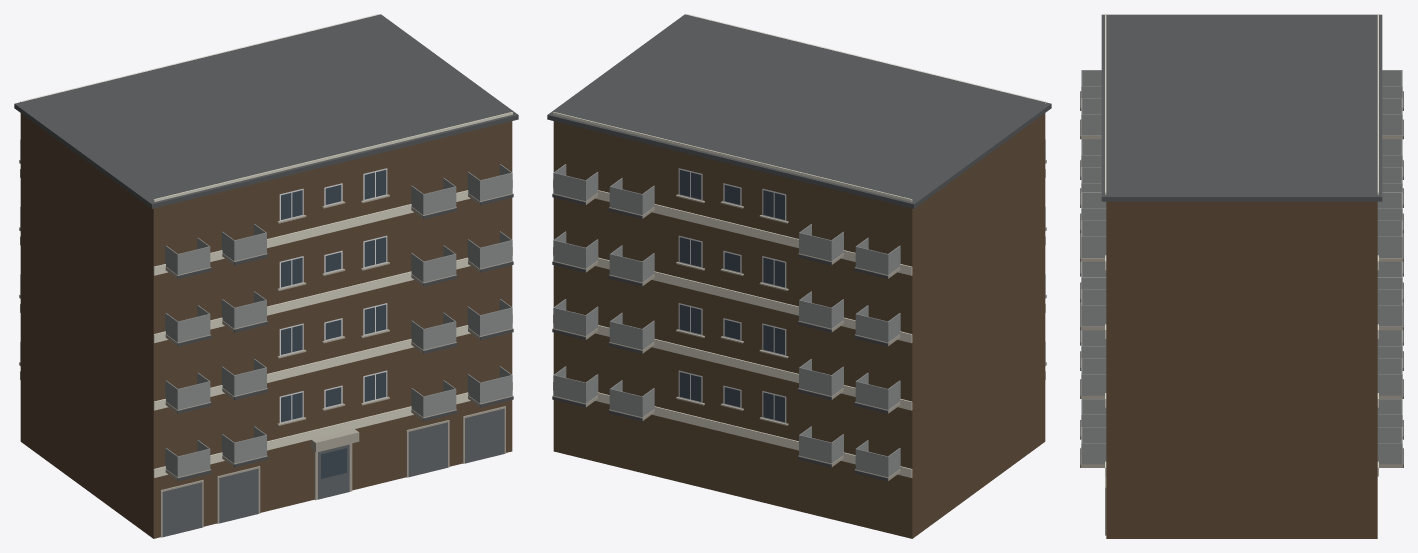
The model's file is nw-garage-balcony-band-brown__brown-brick__5__flat__long__solid.glb.
3 views of the same model, side by side, from view 1: azimuth 30°, elevation 25°; view 2: azimuth 150°, elevation 25°; view 3: azimuth 270°, elevation 25° (orthographic).
Parts seen in each view (by area): view 1: nw-garage-balcony-band-brown__brown-brick__5__flat__long__so; view 2: nw-garage-balcony-band-brown__brown-brick__5__flat__long__so; view 3: nw-garage-balcony-band-brown__brown-brick__5__flat__long__so.
Boxes of the visible parts, bbox=[...] form: nw-garage-balcony-band-brown__brown-brick__5__flat__long__so: bbox=[14, 14, 518, 538]; nw-garage-balcony-band-brown__brown-brick__5__flat__long__so: bbox=[547, 14, 1051, 538]; nw-garage-balcony-band-brown__brown-brick__5__flat__long__so: bbox=[1080, 14, 1403, 538].
Bounding box in the file's own units: 18.59 × 16.45 × 13.94.
